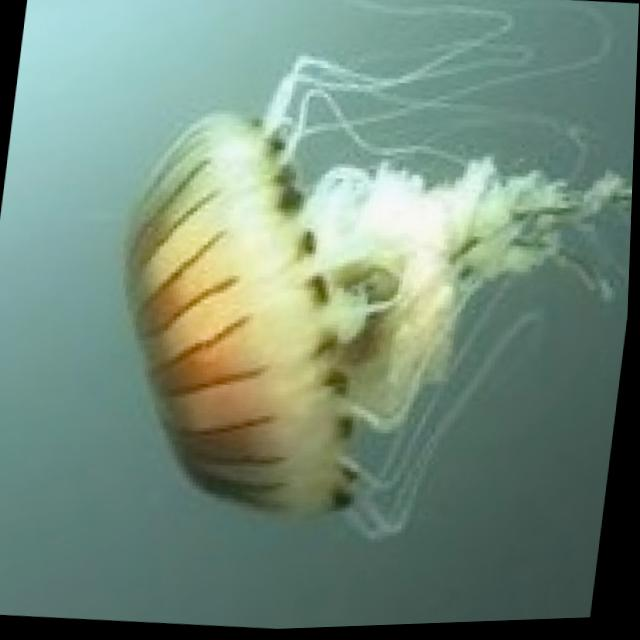Moon-jellyfish: (92, 0, 640, 569)
